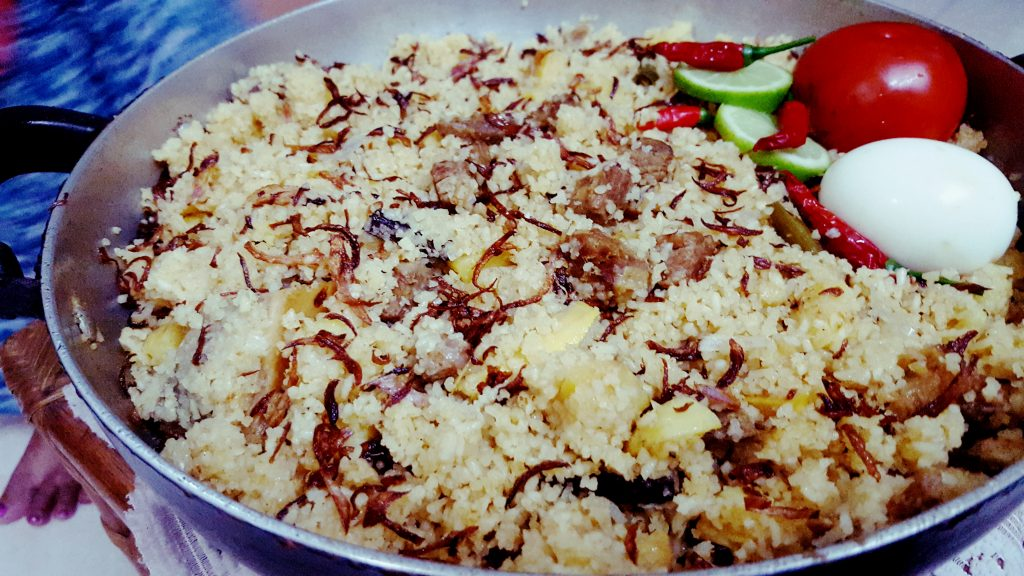tehari: (123, 36, 1020, 569)
